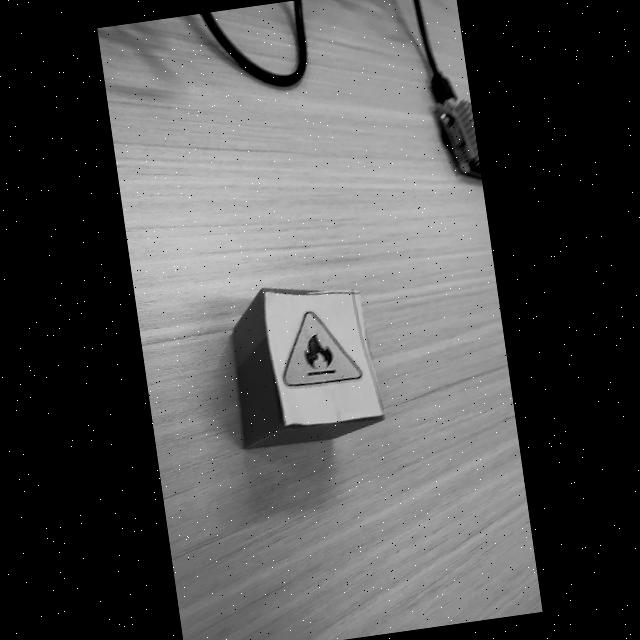Fire: (283, 311, 363, 388)
